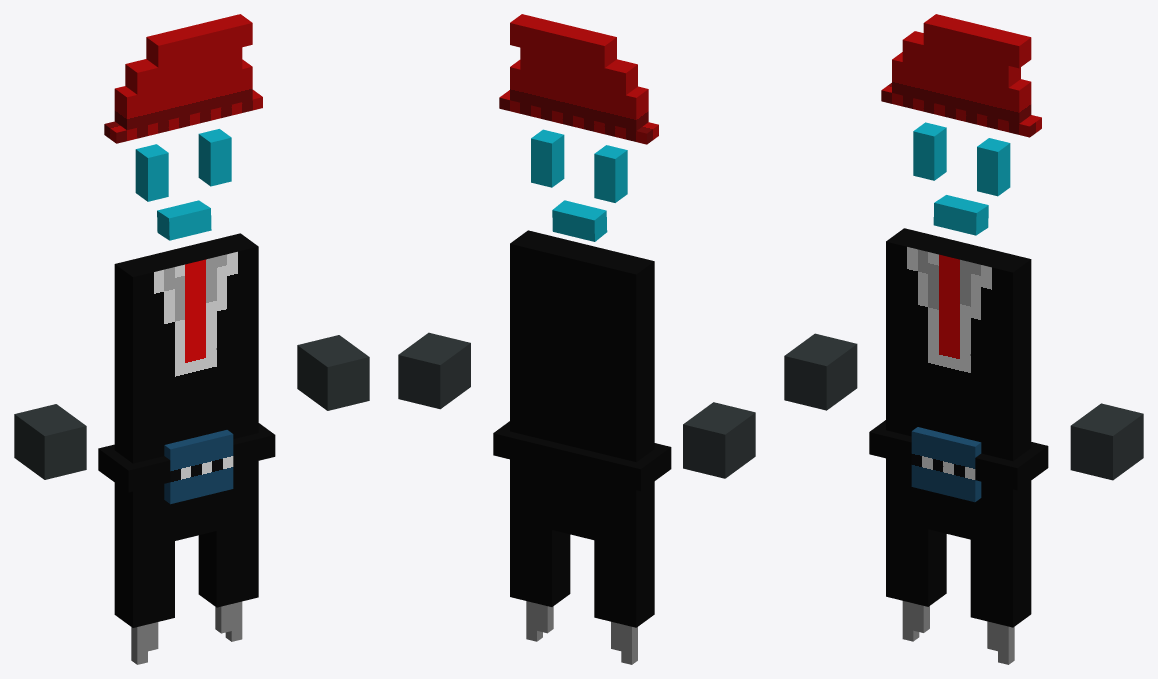
The model's file is Mr.Assassin.gltf.
3 views of the same model, side by side, from view 1: azimuth 30°, elevation 25°; view 2: azimuth 150°, elevation 25°; view 3: azimuth 330°, elevation 25° (orthographic).
Visible parts, largest first — view 1: cube (×16); view 2: cube (×16); view 3: cube (×16).
Part boxes in pixels (bbox=[...]): cube (×16): bbox=[14, 14, 369, 627]; cube (×16): bbox=[398, 14, 755, 627]; cube (×16): bbox=[784, 14, 1143, 627].
Bounding box in the file's own units: 1.94 × 3.5 × 0.3125.
Materials: 1 (1 with a texture image).
